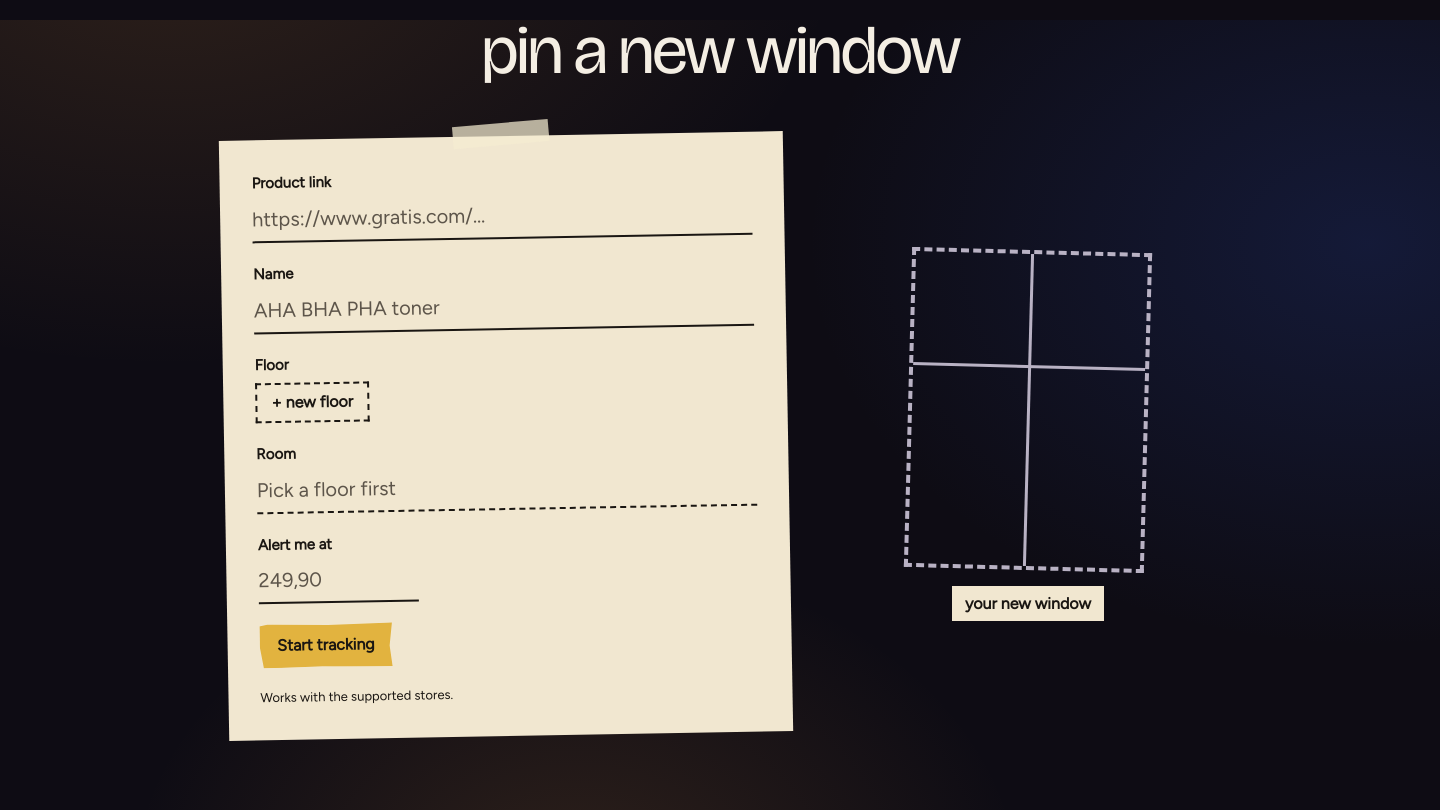
Test case: AddPage › explains what's missing instead of submitting
What coordinates should you click on to do the following:
click the button "Start tracking"
I would click on:
 (326, 645)
Its box is top-left (259, 622), bottom-right (393, 669).
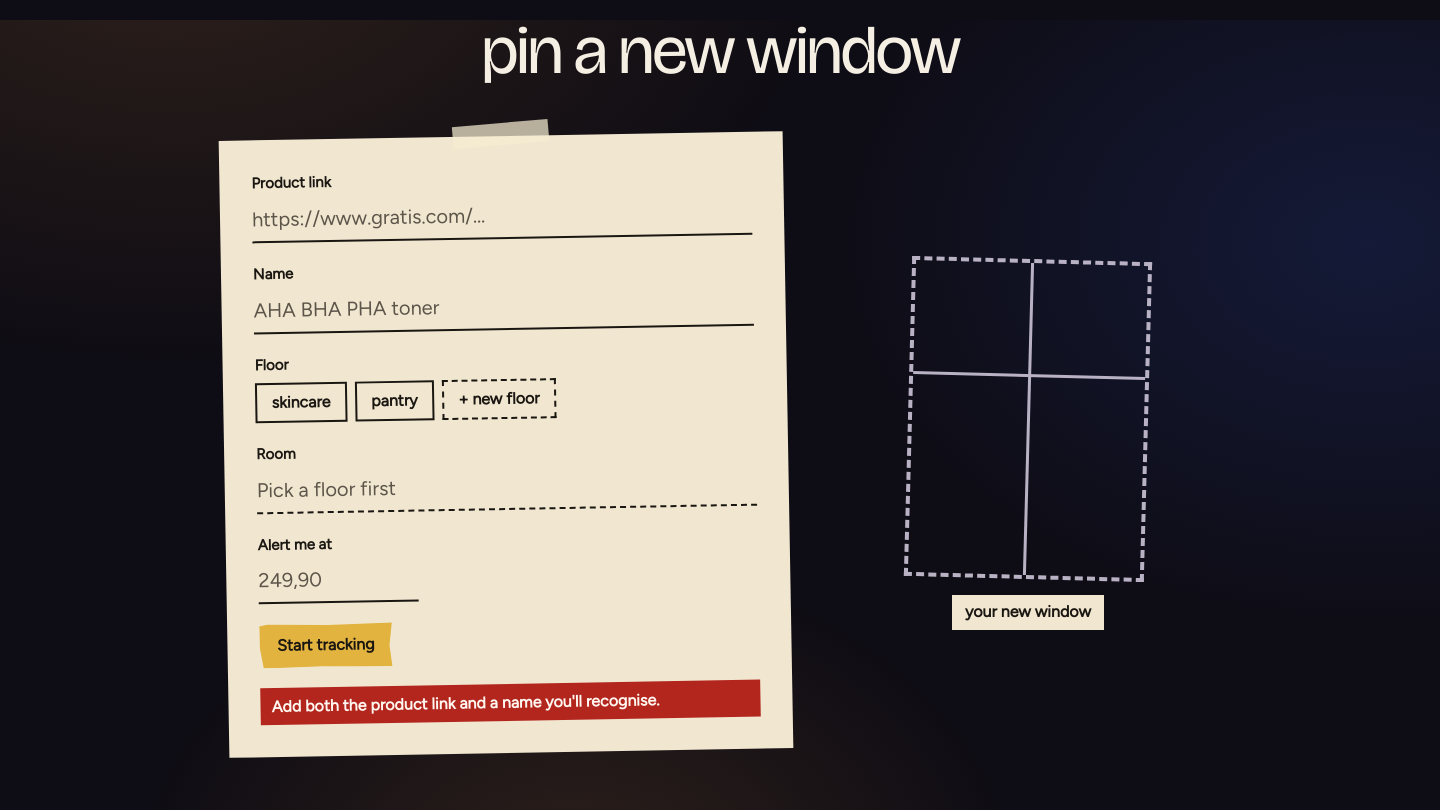
Result: the message reads "Add both the product link and a name you'll recognise." at top-left (272, 690), bottom-right (660, 716)
